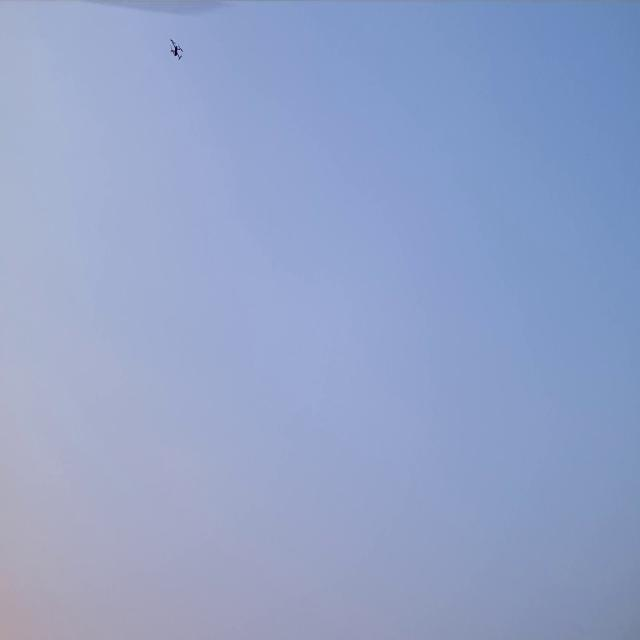UAV: (168, 36, 185, 64)
